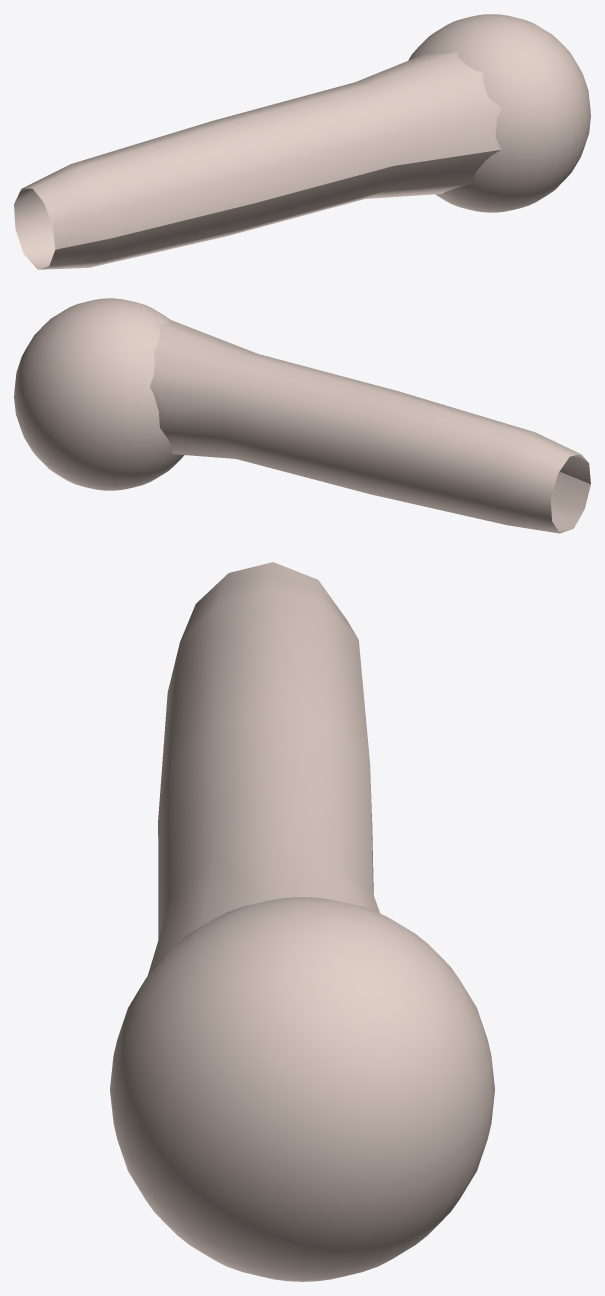
File: brazo_I.obj
3 views of the same model, one above another, from view 1: azimuth 30°, elevation 25°; view 2: azimuth 150°, elevation 25°; view 3: azimuth 270°, elevation 25° (orthographic). The views are drawn at different scales.
Visible parts, largest first — view 1: brazo_I; view 2: brazo_I; view 3: brazo_I.
Boxes of the visible parts, x1,y1,x2,y2 form: brazo_I: [14, 14, 590, 269]; brazo_I: [14, 298, 590, 533]; brazo_I: [110, 562, 494, 1281].
Size of the model in its own units: 31.06 by 9.67 by 9.67.
Materials: 2 (2 with a texture image).
